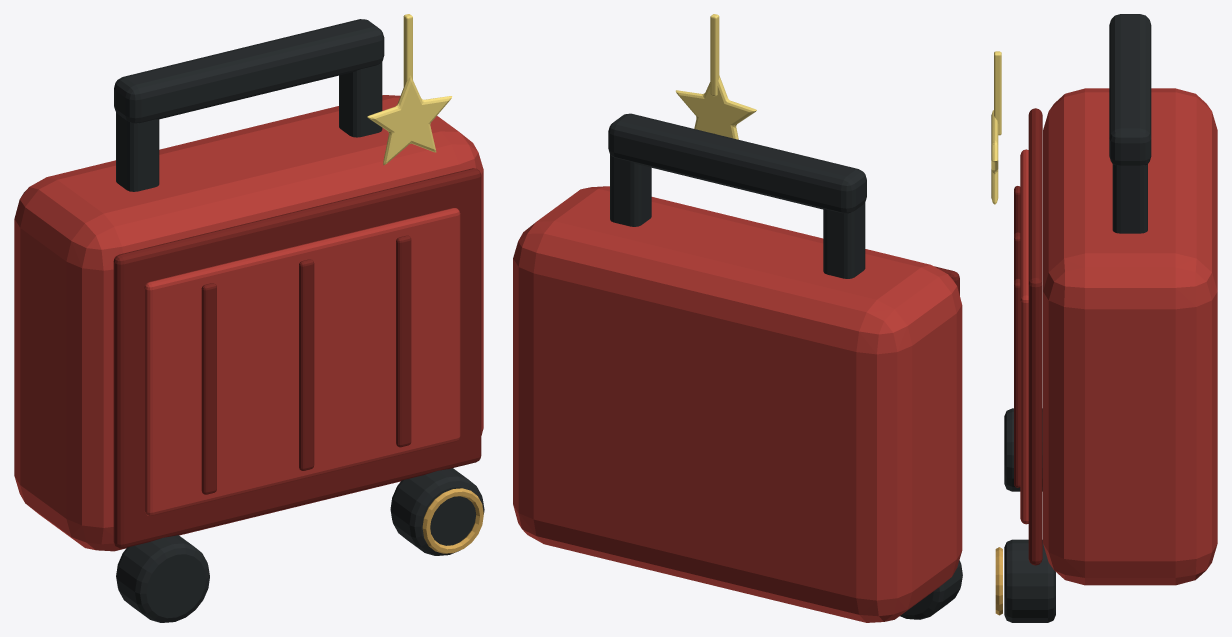
The model's file is suitcase-star-v1-Cj945Wue.glb.
3 views of the same model, side by side, from view 1: azimuth 30°, elevation 25°; view 2: azimuth 150°, elevation 25°; view 3: azimuth 270°, elevation 25° (orthographic). The views are drawn at different scales.
Visible parts, largest first — view 1: Front inset, Rounded red shell, Case seam, Raised handle, Left wheel, Right wheel, Shell ridge.002, Shell ridge, Shell ridge.001, Folded paper star, Handle post, Handle post.001 (+2 smaller); view 2: Rounded red shell, Raised handle, Handle post, Handle post.001, Folded paper star, Left wheel, Star cord; view 3: Rounded red shell, Case seam, Raised handle, Right wheel, Front inset, Handle post.001, Shell ridge.002, Left wheel, Folded paper star, Star cord, Right wheel clue ring, Shell ridge (+1 smaller).
Part boxes in pixels (<box>): Front inset: <box>144,208,460,515</box>; Rounded red shell: <box>14,95,483,551</box>; Case seam: <box>113,168,481,548</box>; Raised handle: <box>114,19,384,123</box>; Left wheel: <box>116,535,209,622</box>; Right wheel: <box>390,468,484,555</box>; Shell ridge.002: <box>396,235,411,447</box>; Shell ridge: <box>201,283,216,494</box>; Shell ridge.001: <box>299,259,314,470</box>; Folded paper star: <box>367,75,452,165</box>; Handle post: <box>116,112,159,191</box>; Handle post.001: <box>339,62,382,137</box>; Rounded red shell: <box>513,186,962,622</box>; Raised handle: <box>608,113,866,213</box>; Handle post: <box>823,202,865,278</box>; Handle post.001: <box>610,154,651,226</box>; Folded paper star: <box>675,75,756,139</box>; Left wheel: <box>900,560,962,619</box>; Star cord: <box>710,14,719,96</box>; Rounded red shell: <box>1043,88,1217,585</box>; Case seam: <box>1028,108,1042,565</box>; Raised handle: <box>1109,14,1151,165</box>; Right wheel: <box>1004,539,1055,622</box>; Front inset: <box>1020,149,1028,524</box>; Handle post.001: <box>1112,164,1147,233</box>; Shell ridge.002: <box>1014,278,1020,487</box>; Left wheel: <box>1004,408,1042,491</box>; Folded paper star: <box>991,110,998,204</box>; Star cord: <box>994,51,1001,135</box>; Right wheel clue ring: <box>995,547,1002,615</box>; Shell ridge: <box>1014,186,1020,234</box>.
Bounding box in the file's own units: 1.44 × 1.86 × 0.7.
